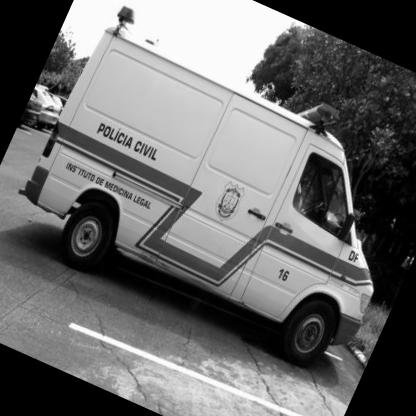truck: (1, 3, 416, 396)
